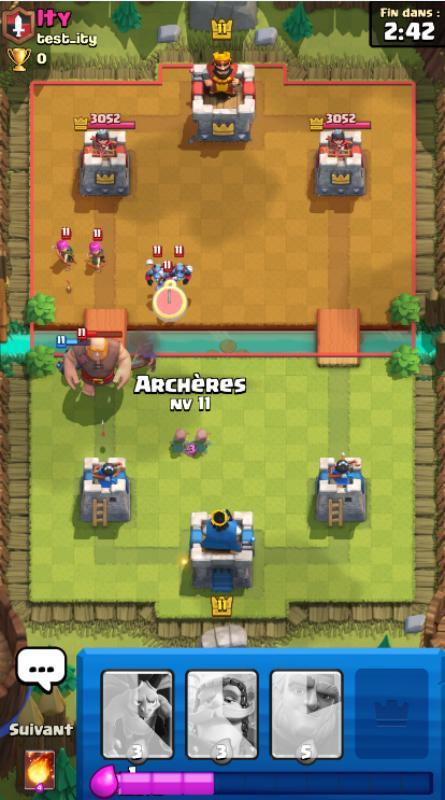archere: (52, 226, 78, 272), (84, 226, 108, 273), (190, 429, 213, 458), (170, 427, 191, 455)
gargouille: (145, 245, 169, 286), (170, 245, 194, 285), (157, 261, 178, 289)
geant: (64, 328, 132, 397)
mini_PEKKA: (54, 335, 91, 377)
mousquetaire: (131, 341, 158, 374)
